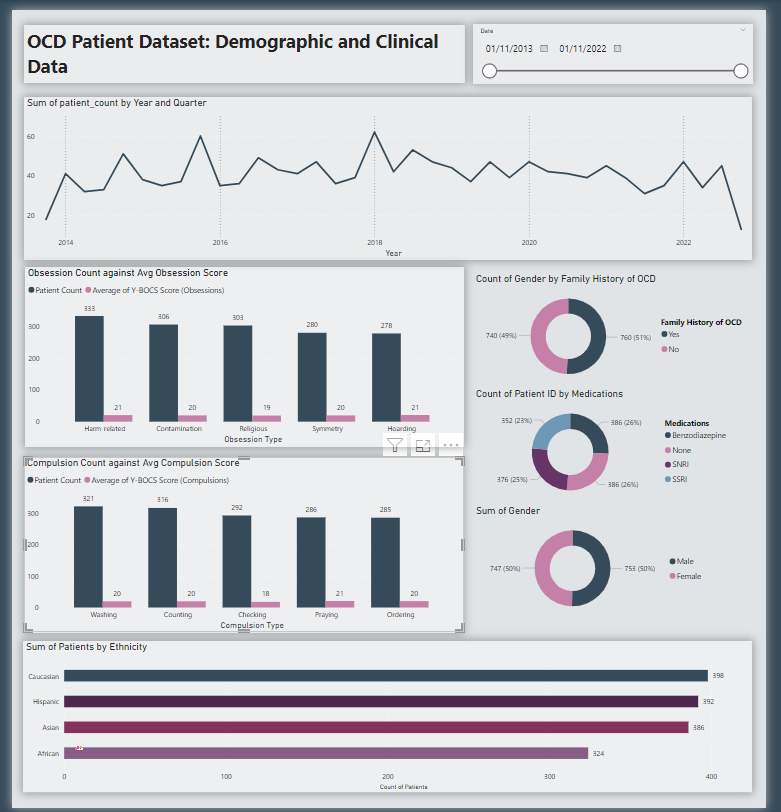

This screenshot's page, from the dashboard's own definition file:
{"tool":"powerbi","page":{"name":"Page 1","canvas":[1300,1375],"ordinal":0},"visuals":[{"type":"donutChart","fields":{"Category":["ocd_patient_dataset.Family History of OCD"],"Y":["CountNonNull(ocd_patient_dataset.Gender)"]},"box":[795,452.6,480.7,199.3],"z":0},{"type":"textbox","box":[20,26,760,100],"z":1000},{"type":"donutChart","title":"Sum of Gender","fields":{"Y":["Sum(Gender.count_male)","Sum(Gender.count_female)"]},"box":[795,853.6,408,199.3],"z":2000},{"type":"lineChart","fields":{"Y":["Sum(Diagnosis_mom.patient_count)"],"Category":["Diagnosis_mom.month.Variation.Date Hierarchy.Year","Diagnosis_mom.month.Variation.Date Hierarchy.Quarter"]},"box":[21.1,150.1,1254.6,281.4],"z":3000},{"type":"donutChart","fields":{"Category":["ocd_patient_dataset.Medications"],"Y":["CountNonNull(ocd_patient_dataset.Patient ID)"]},"box":[795,651.9,450.3,201.7],"z":4000},{"type":"slicer","fields":{"Values":["Diagnosis_mom.month"]},"box":[795,23.5,483.1,103.2],"z":5000},{"type":"clusteredColumnChart","title":"Compulsion Count against Avg Compulsion Score","fields":{"Category":["ocd_patient_dataset.Compulsion Type"],"Y":["CountNonNull(ocd_patient_dataset.Patient ID)","Avg(ocd_patient_dataset.Y-BOCS Score (Compulsions))"]},"box":[21.4,770,757.1,302.9],"z":6000},{"type":"clusteredBarChart","title":"Sum of Patients by Ethnicity","fields":{"Category":["ocd_patient_dataset.Ethnicity"],"Y":["CountNonNull(ocd_patient_dataset.Patient ID)"]},"box":[18.6,1088.6,1257.1,261.4],"z":7000},{"type":"clusteredColumnChart","title":"Obsession Count against Avg Obsession Score","fields":{"Category":["ocd_patient_dataset.Obsession Type"],"Y":["CountNonNull(ocd_patient_dataset.Patient ID)","Avg(ocd_patient_dataset.Y-BOCS Score (Obsessions))"]},"box":[22.9,442.9,757.1,310],"z":8000}]}

Visuals, with their boxes in screenshot pixels (x1, y1, x2, y2), scaled from the page's 1300x1375 canvas onto the 781x812 screenshot:
donutChart - ocd_patient_dataset.Family History of OCD x CountNonNull(ocd_patient_dataset.Gender): left=478, top=267, right=766, bottom=385
textbox: left=12, top=15, right=469, bottom=74
"Sum of Gender" donutChart: left=478, top=504, right=723, bottom=622
lineChart - Sum(Diagnosis_mom.patient_count) x Diagnosis_mom.month.Variation.Date Hierarchy.Year: left=13, top=89, right=766, bottom=255
donutChart - ocd_patient_dataset.Medications x CountNonNull(ocd_patient_dataset.Patient ID): left=478, top=385, right=748, bottom=504
slicer - Diagnosis_mom.month: left=478, top=14, right=768, bottom=75
"Compulsion Count against Avg Compulsion Score" clusteredColumnChart: left=13, top=455, right=468, bottom=634
"Sum of Patients by Ethnicity" clusteredBarChart: left=11, top=643, right=766, bottom=797
"Obsession Count against Avg Obsession Score" clusteredColumnChart: left=14, top=262, right=469, bottom=445
